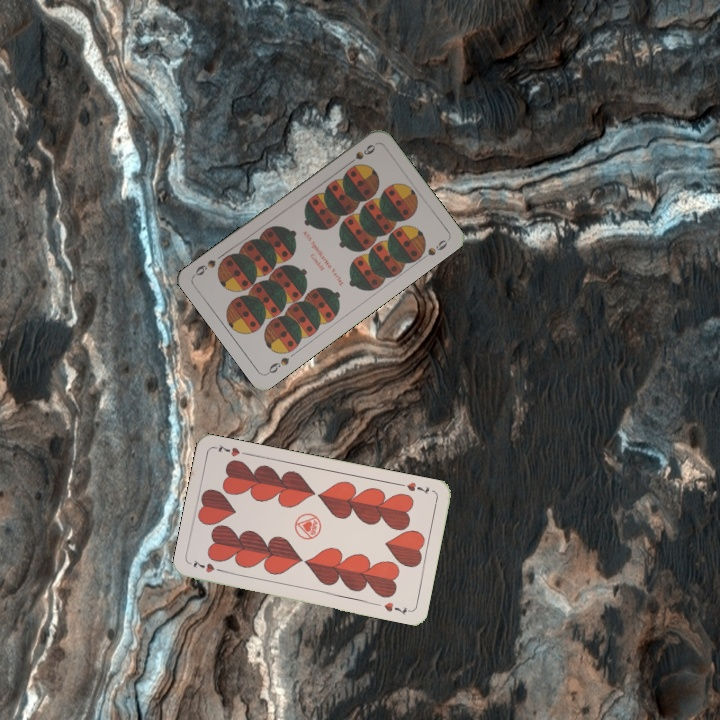H7: (189, 557, 227, 575), (395, 478, 432, 496)
S9: (343, 140, 378, 168), (263, 353, 292, 377)
